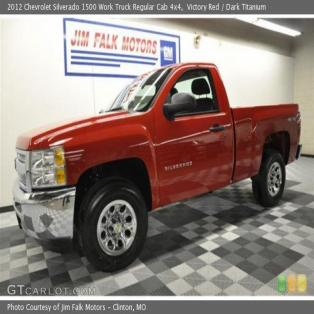Auto: (6, 52, 310, 280)
